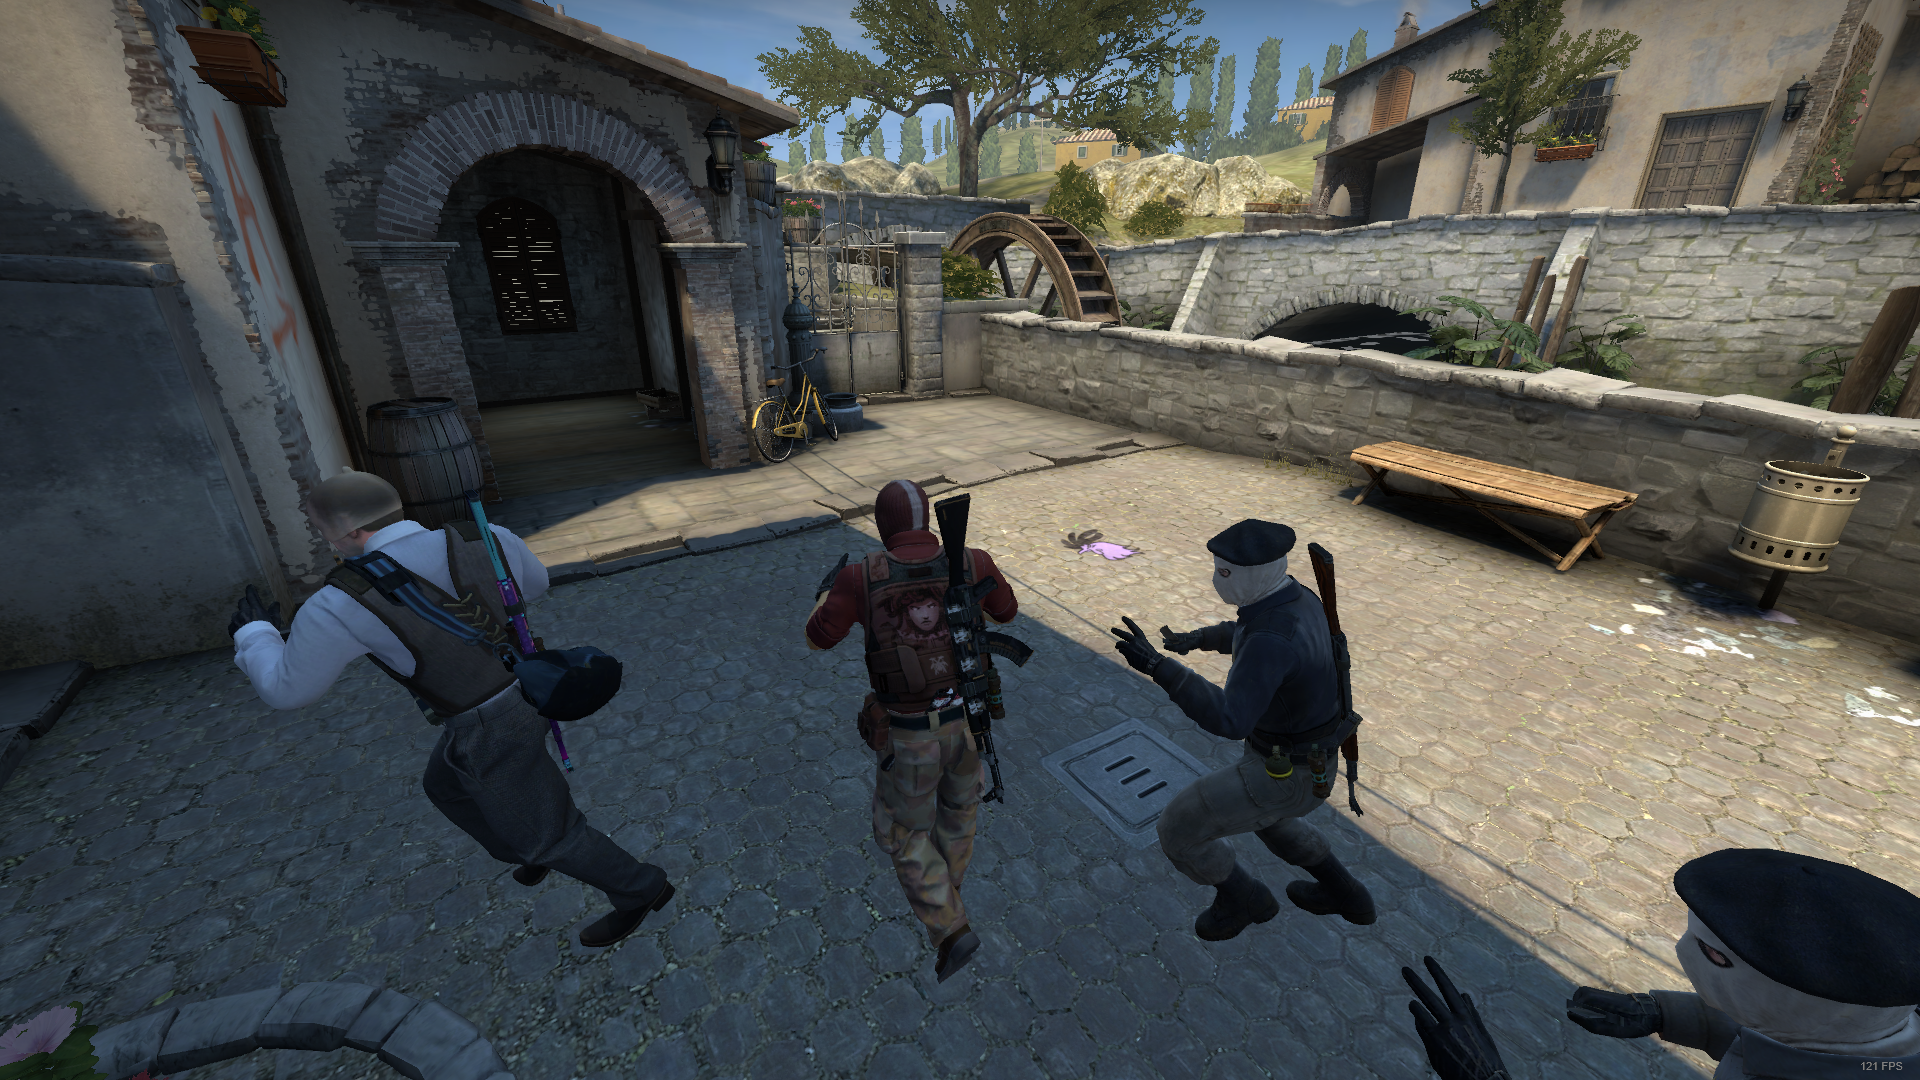t: (1105, 520, 1386, 948)
